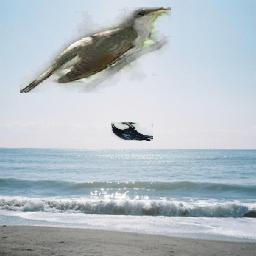Crow: (111, 123, 153, 142)
Cuckoo: (21, 7, 172, 93)
